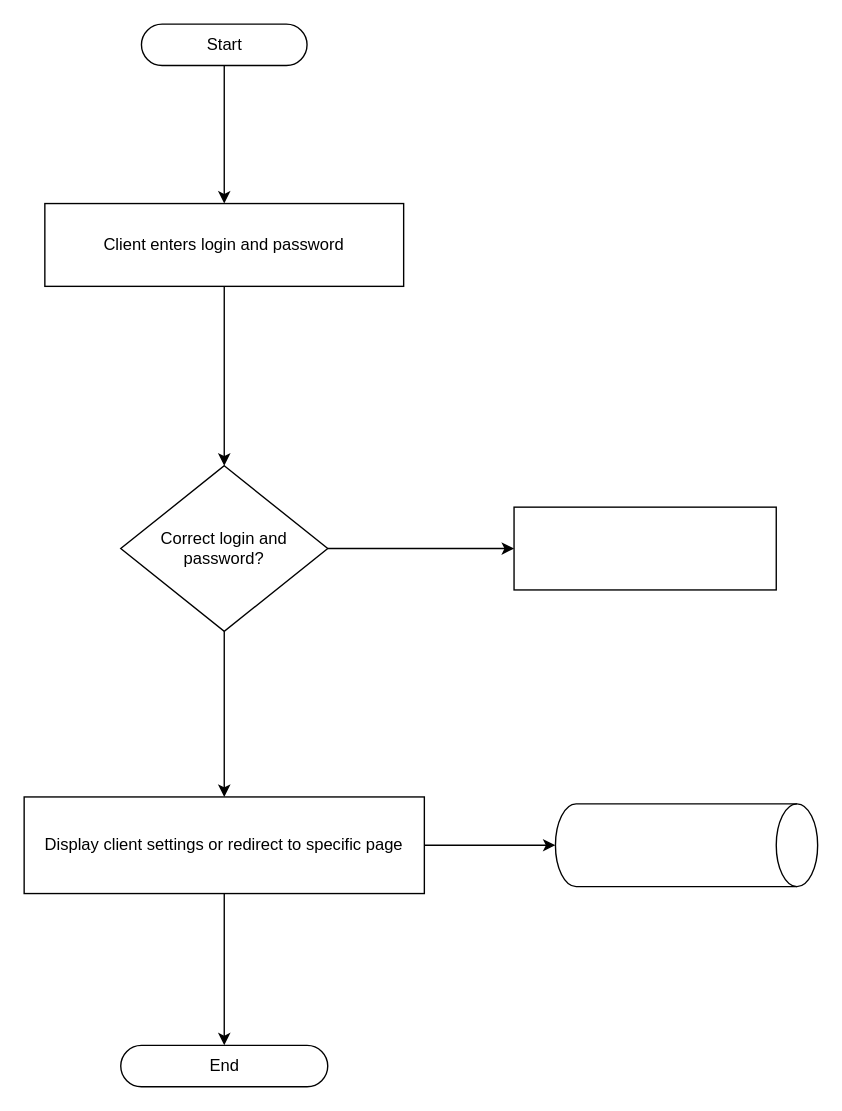
Some shapes in this 842 by 1111 pixel diagram are drawn without their labels. The centre of each missing label's shape, as x and y in pixels:
"Display Invalid Login Error" belongs at point (644, 548).
"Register login access" belongs at point (686, 844).
